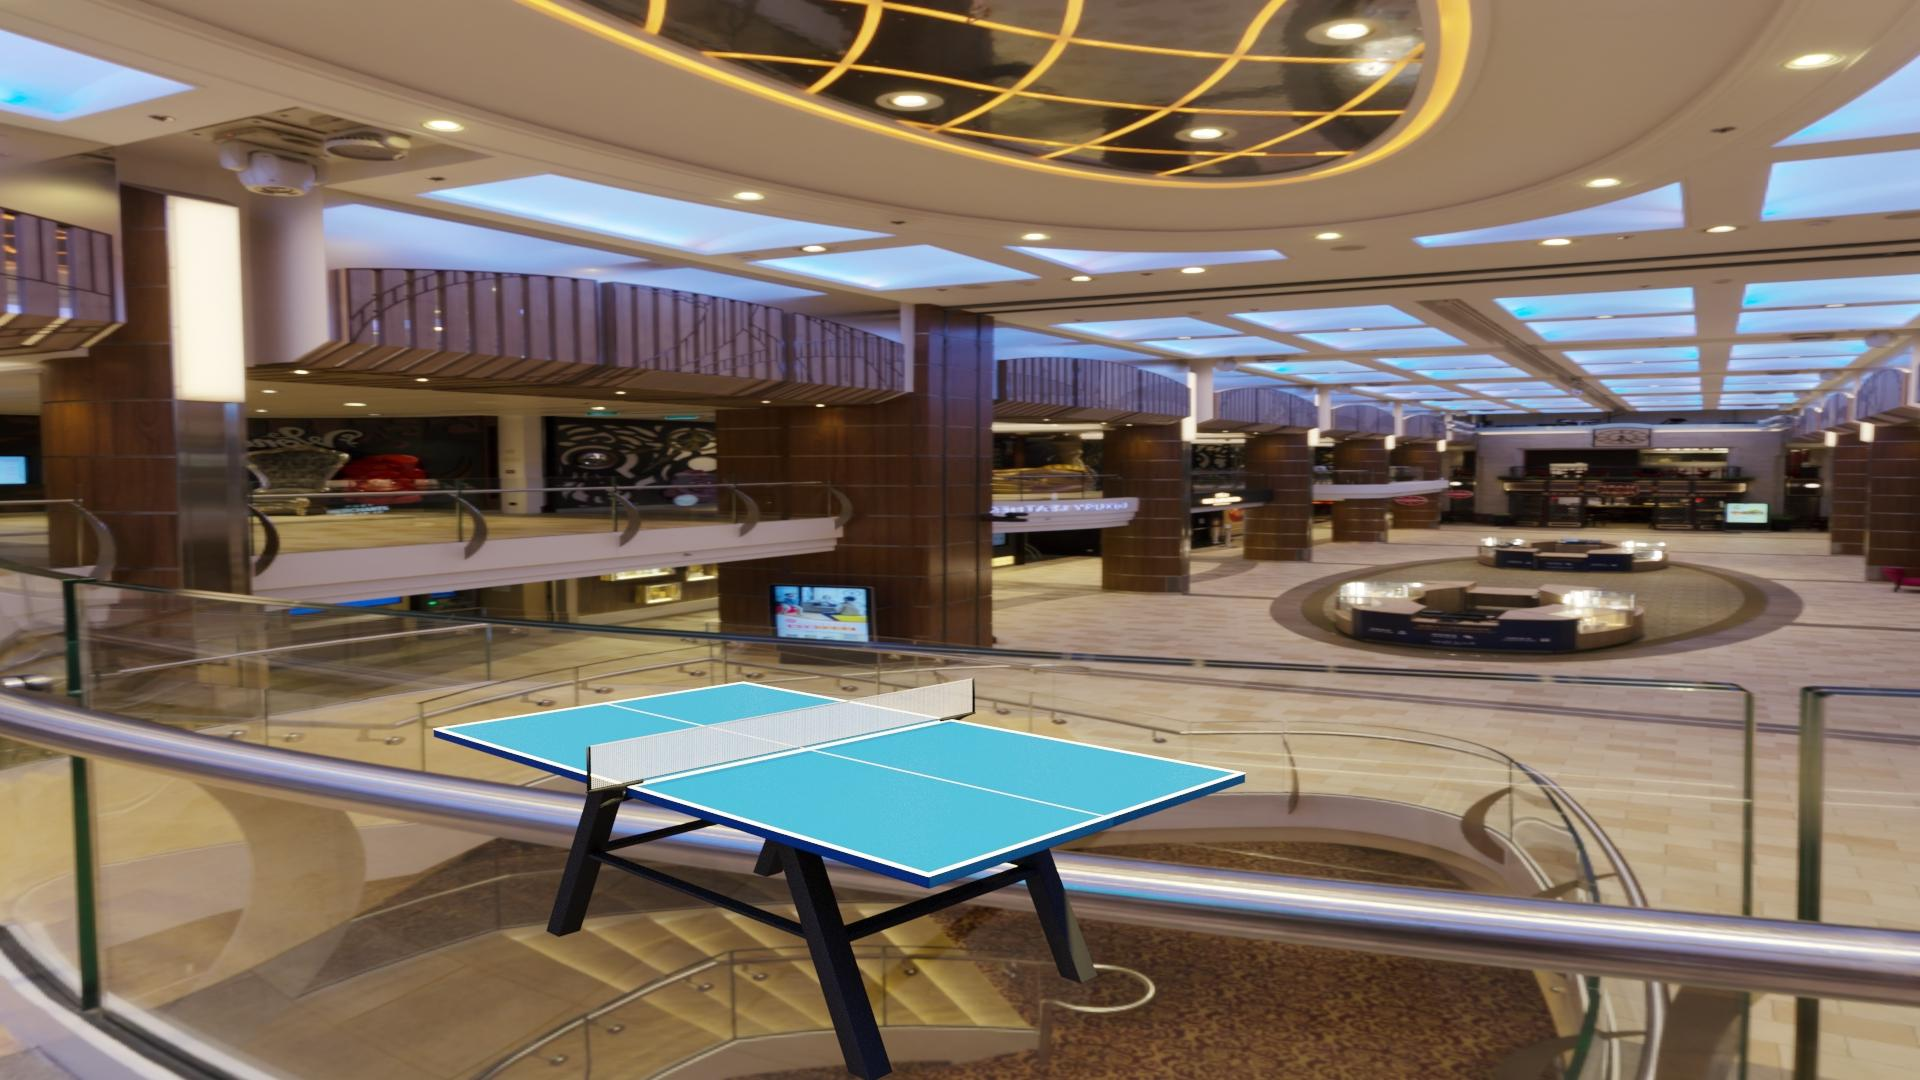table: (440, 683, 1237, 873)
